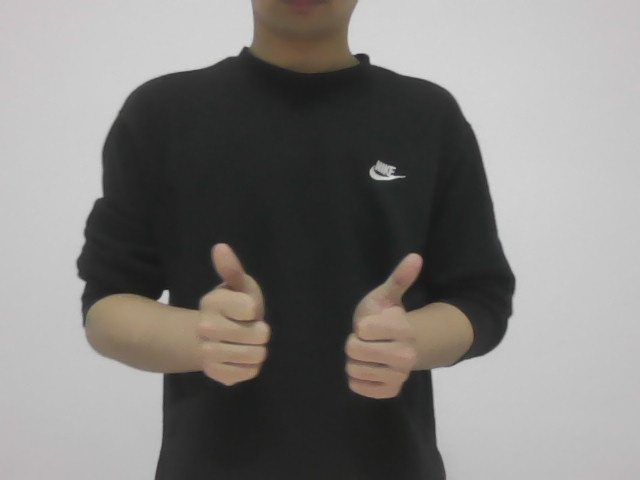friend: (172, 234, 425, 408)
